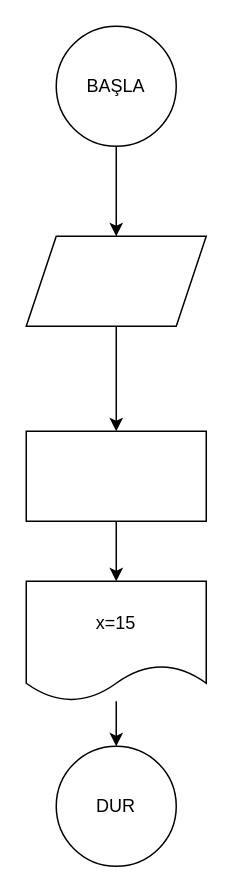
This 233x893 diagram has some shape labels left out. Here are the shapes that lost their labels. From the top down, the centre of each, then its label:
the point at 115,280: (x+y+z)/3=20
the point at 115,475: 60+3x-(28+30+32) =60+3x-90=3x-30 6x+30=120
